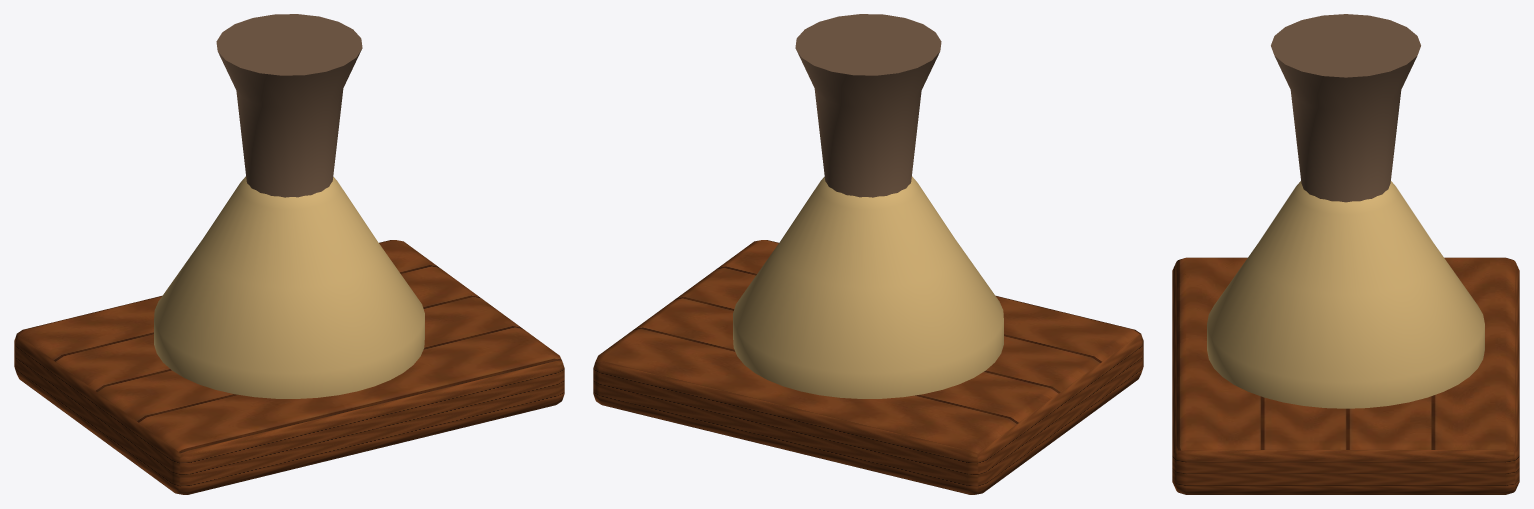
Rendered from adventurers-tavern-and-guild-hall-guild-bell-38a457be__24748.glb.
3 views of the same model, side by side, from view 1: azimuth 30°, elevation 25°; view 2: azimuth 150°, elevation 25°; view 3: azimuth 270°, elevation 25° (orthographic). The views are drawn at different scales.
Parts seen in each view (by area): view 1: guild-bell; view 2: guild-bell; view 3: guild-bell.
Part boxes in pixels (box(x1,y1,x2,y2)): guild-bell: box(14, 14, 564, 494); guild-bell: box(593, 14, 1143, 494); guild-bell: box(1172, 14, 1519, 494).
Size of the model in its own units: 0.4 by 0.34 by 0.3.
Materials: 3 (1 with a texture image).
